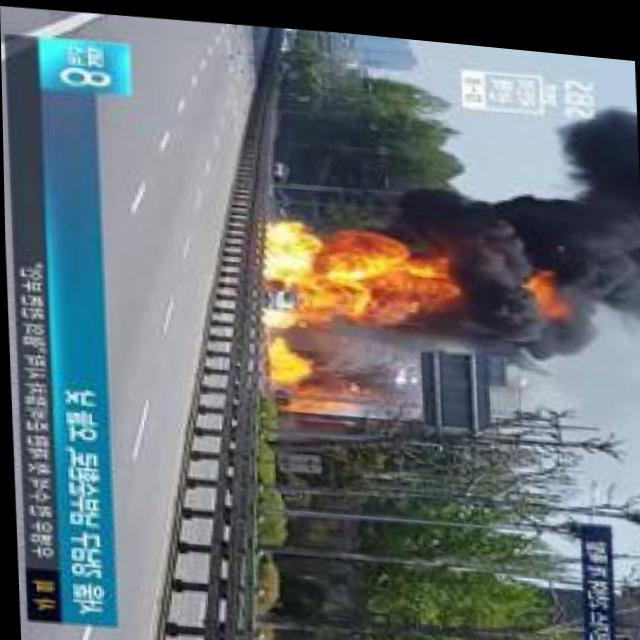Fire: (261, 209, 443, 324), (270, 339, 312, 385), (287, 385, 363, 406)
